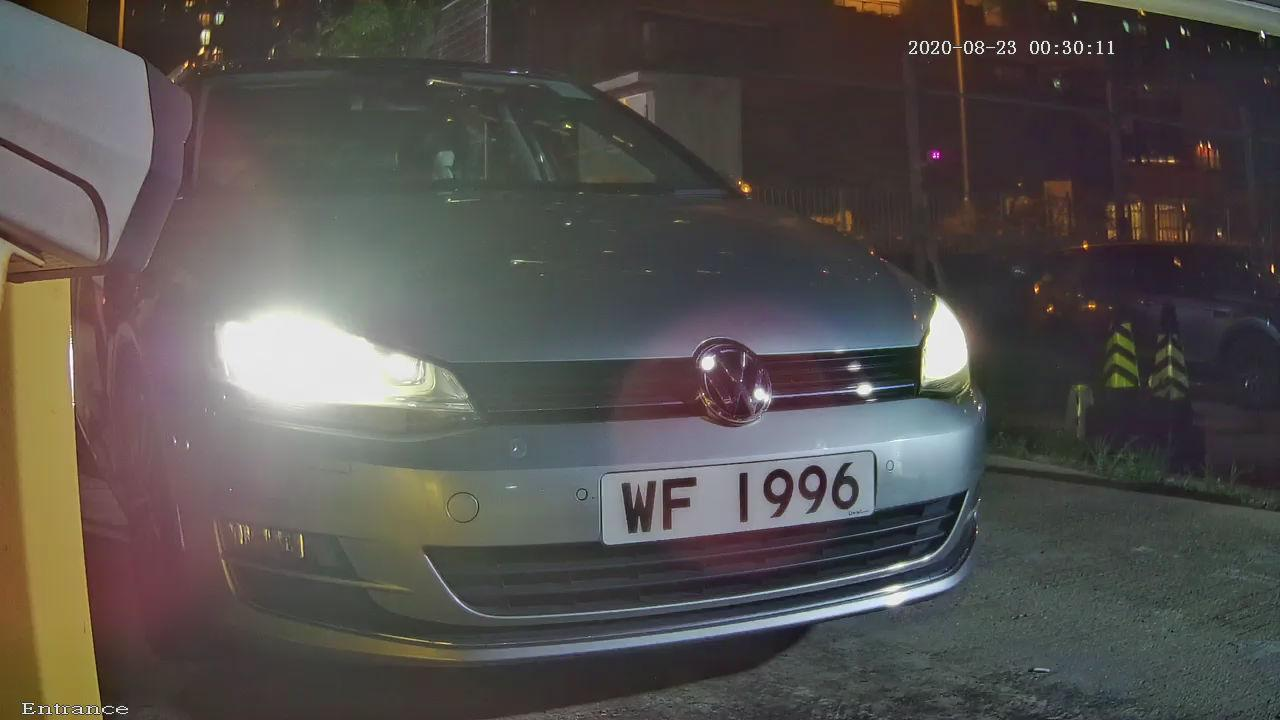Car: (1, 20, 1126, 717)
License Plate: (562, 386, 938, 577)
